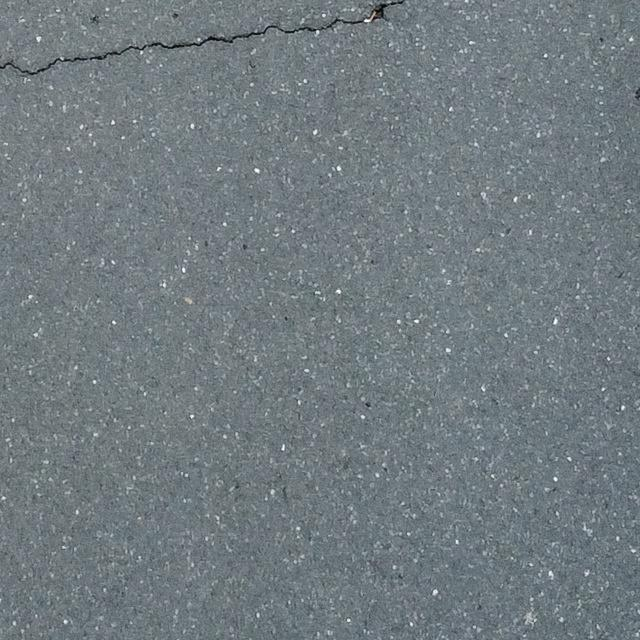TransverseCrack: (1, 1, 405, 74)
